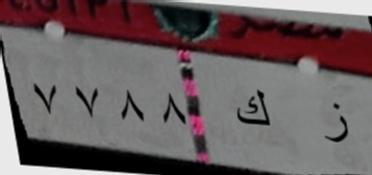7: (28, 78, 59, 120), (70, 80, 101, 121)
8: (117, 84, 145, 128), (158, 89, 187, 131)
kaaf: (234, 85, 276, 132)
zay: (320, 98, 350, 148)
